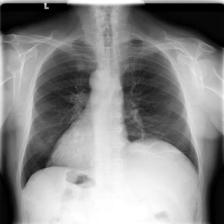normal: (18, 33, 202, 193)
